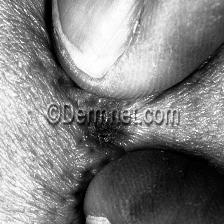Benign Marking or Mole: (81, 95, 139, 156)
